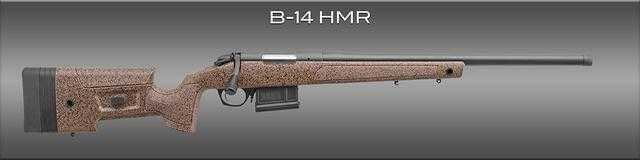heavyweapon: (12, 31, 601, 147)
